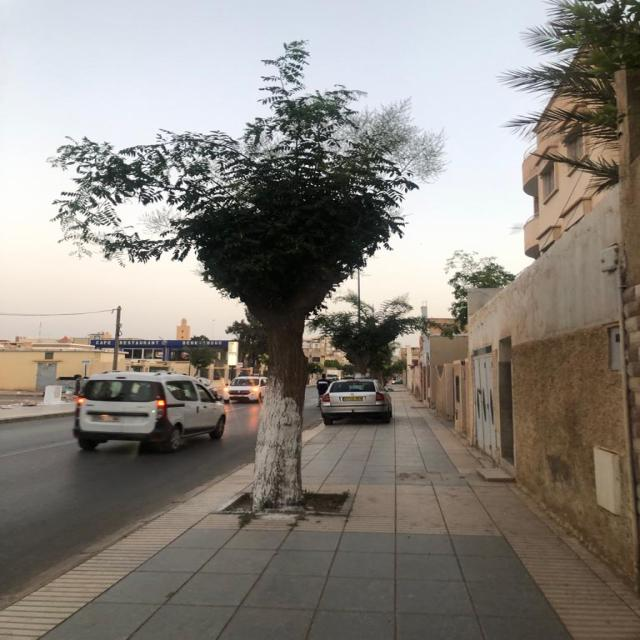Car: (72, 372, 226, 452), (320, 380, 393, 425), (223, 376, 267, 403)
Tree: (50, 40, 443, 510)
